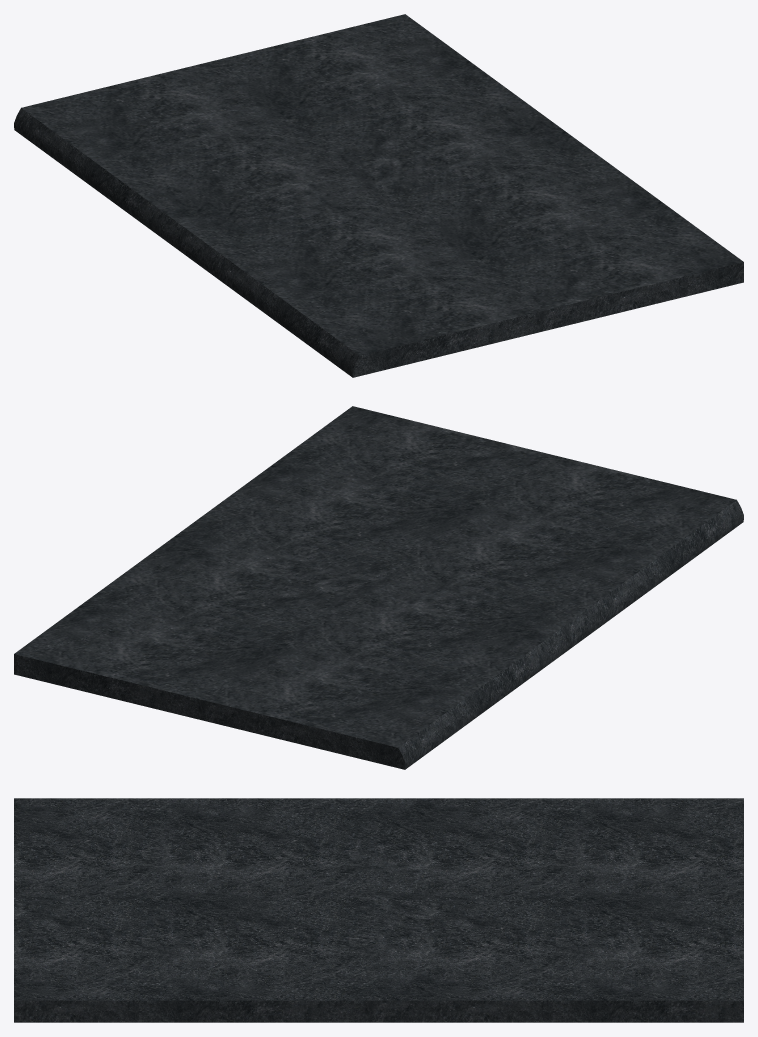
File: encimera sola.FBX
3 views of the same model, one above another, from view 1: azimuth 30°, elevation 25°; view 2: azimuth 150°, elevation 25°; view 3: azimuth 270°, elevation 25° (orthographic). The views are drawn at different scales.
Parts seen in each view (by area): view 1: Box003; view 2: Box003; view 3: Box003.
Part boxes in pixels (x1,y1,x2,y2): Box003: (14,14,743,377); Box003: (14,406,743,769); Box003: (14,798,743,1022).
Size of the model in its own units: 118 by 5.91 by 177.
1 material, 1 textured.
